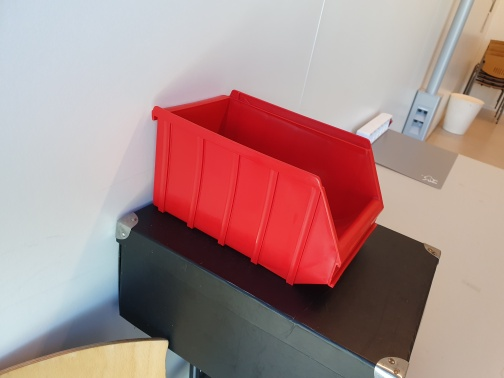tray_left: (150, 105, 341, 293)
